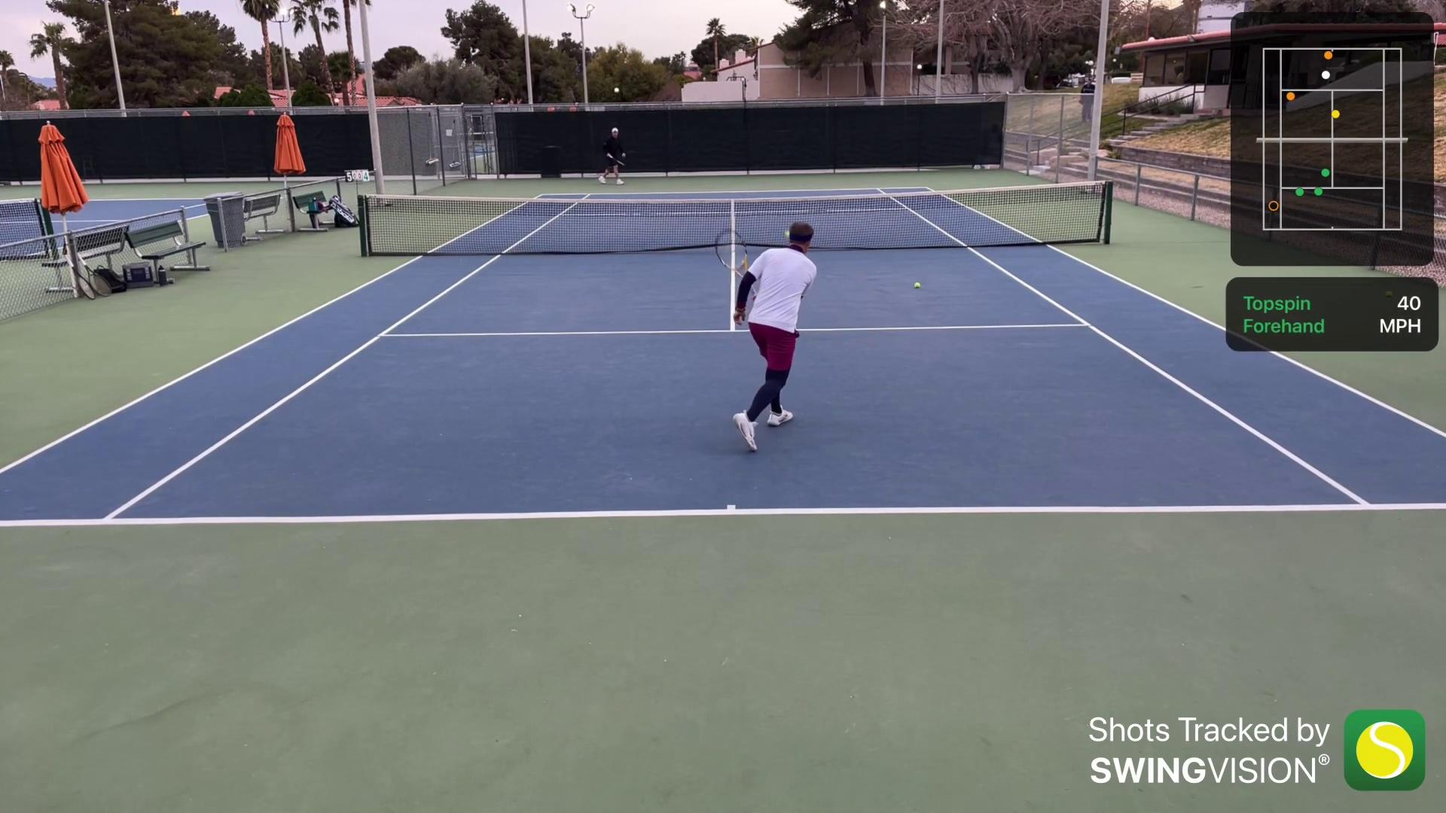ball: (784, 228, 792, 241), (912, 280, 921, 291)
